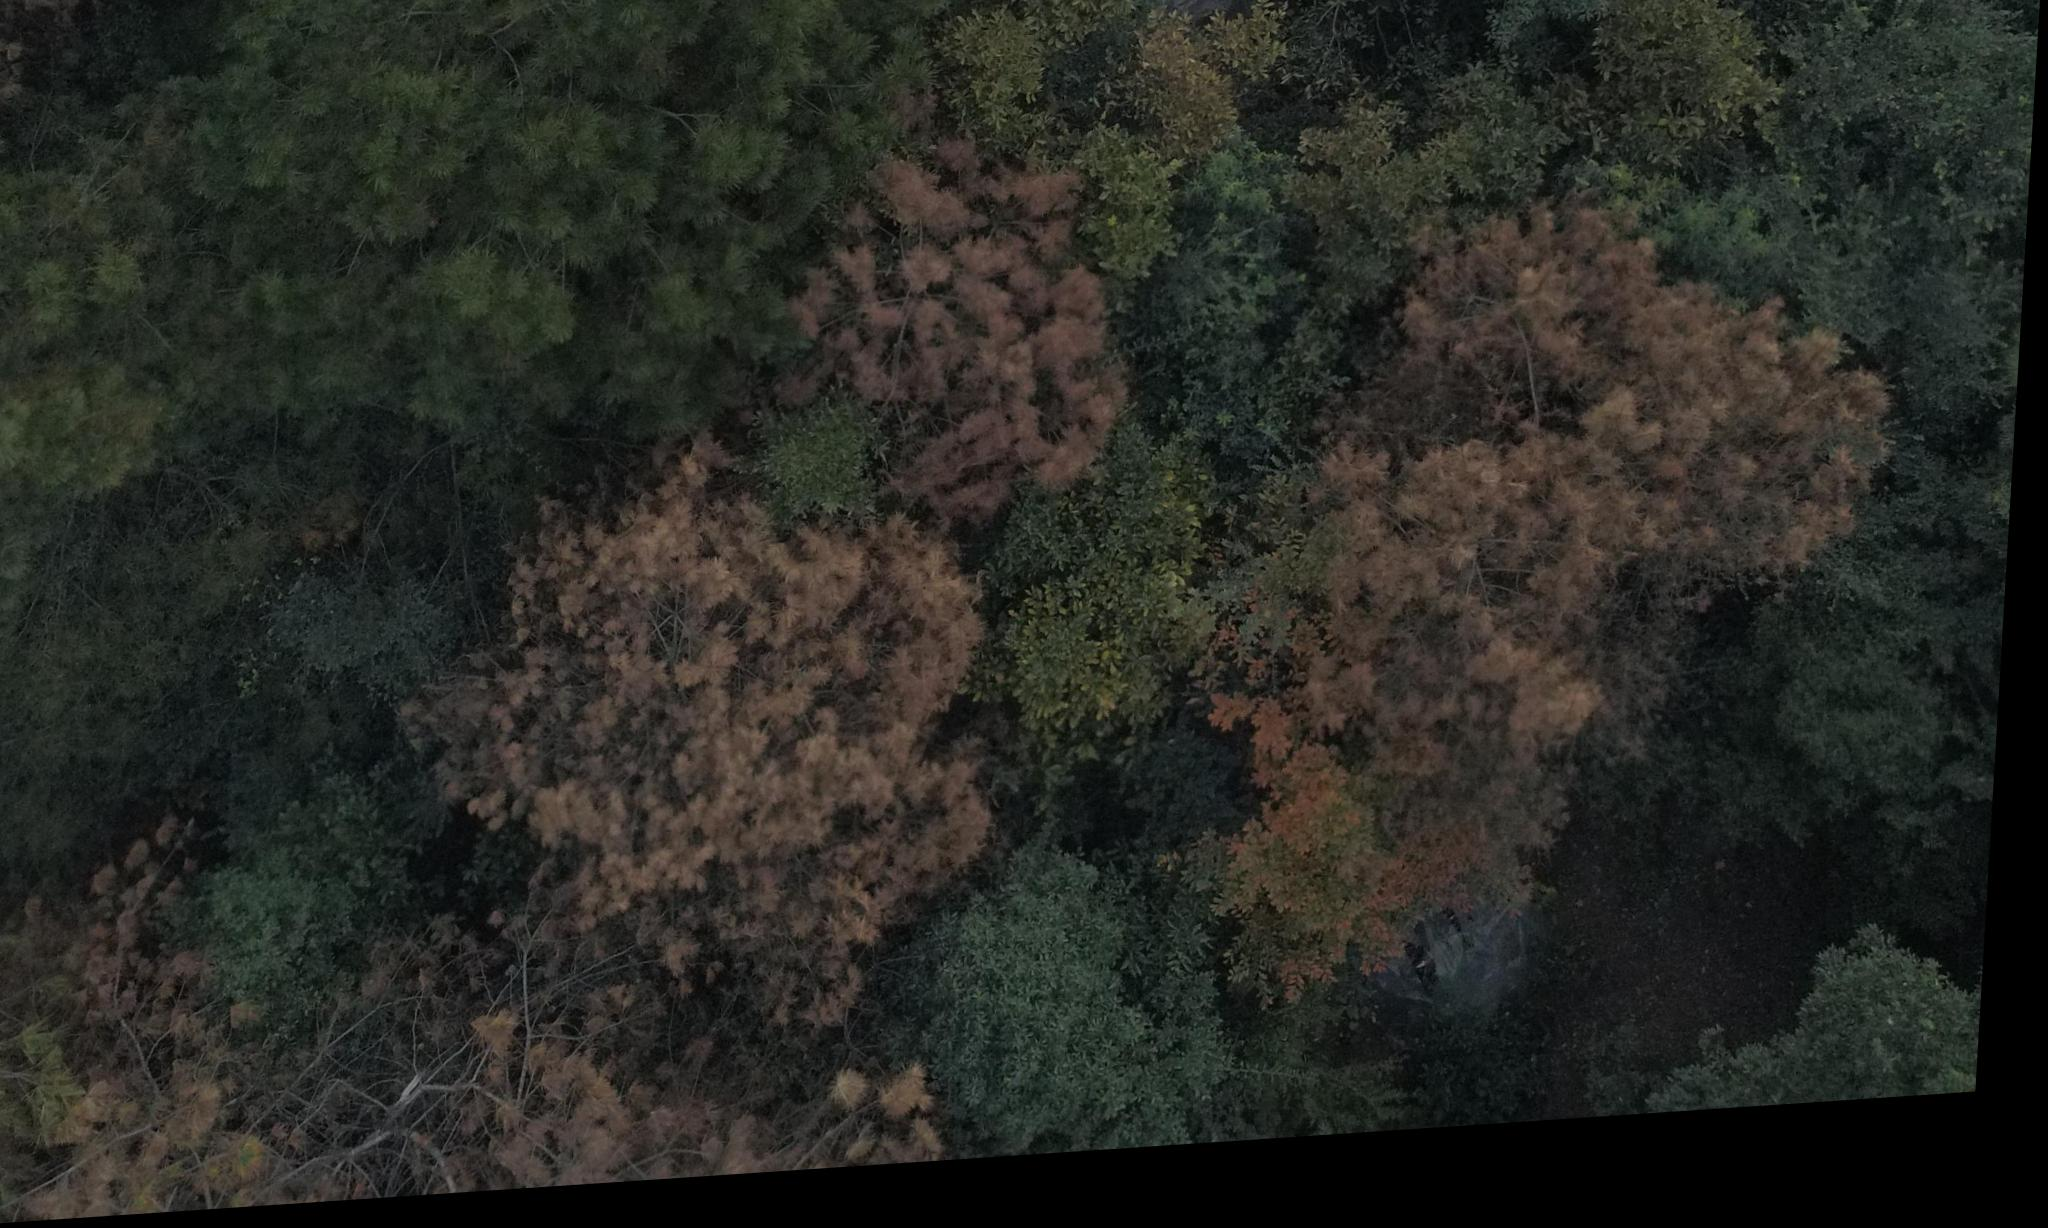heavy: (1304, 219, 1903, 795), (446, 439, 995, 1048), (814, 175, 1148, 510)
